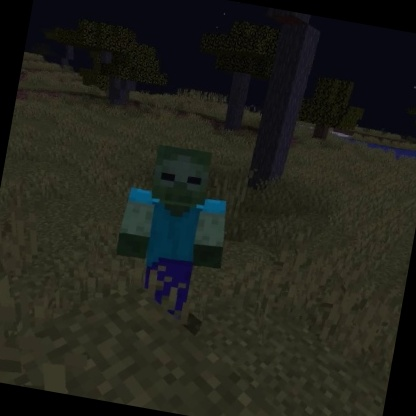zombie: (103, 135, 244, 329)
